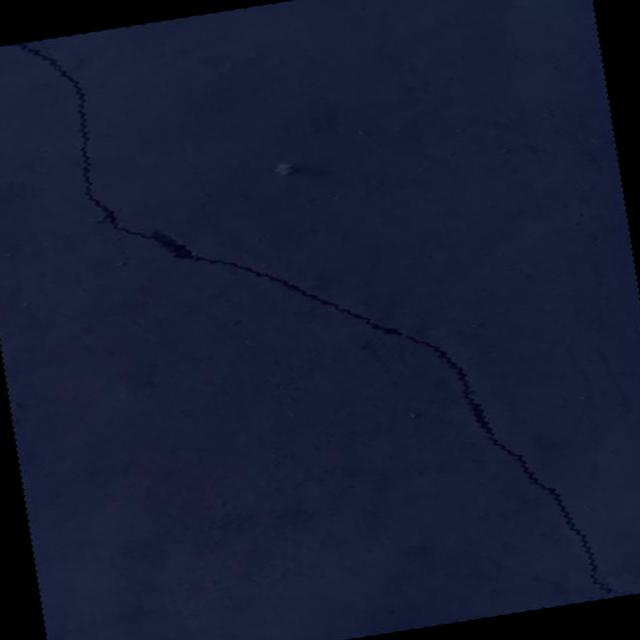crack: (15, 0, 626, 640), (587, 582, 596, 602)
